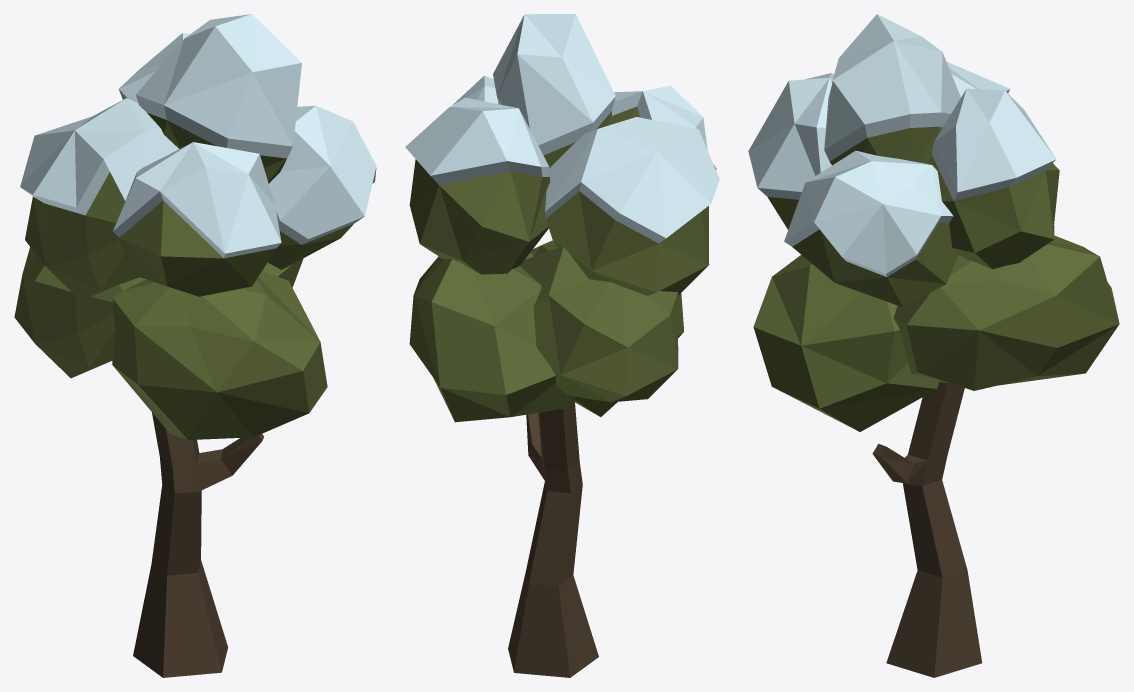
Rendered from SM_Env_Tree_016_Snow.gltf.
3 renders of one model, left to right at view 1: azimuth 30°, elevation 25°; view 2: azimuth 150°, elevation 25°; view 3: azimuth 270°, elevation 25°, orthographic. The views are drawn at different scales.
Parts seen in each view (by area): view 1: SM_Env_Tree_016_Snow; view 2: SM_Env_Tree_016_Snow; view 3: SM_Env_Tree_016_Snow.
Part boxes in pixels (x1,y1,x2,y2): SM_Env_Tree_016_Snow: (14,14,376,677); SM_Env_Tree_016_Snow: (405,14,719,677); SM_Env_Tree_016_Snow: (748,14,1119,677).
Bounding box in the file's own units: 2.85 × 5.84 × 3.06.
1 material, 1 textured.
